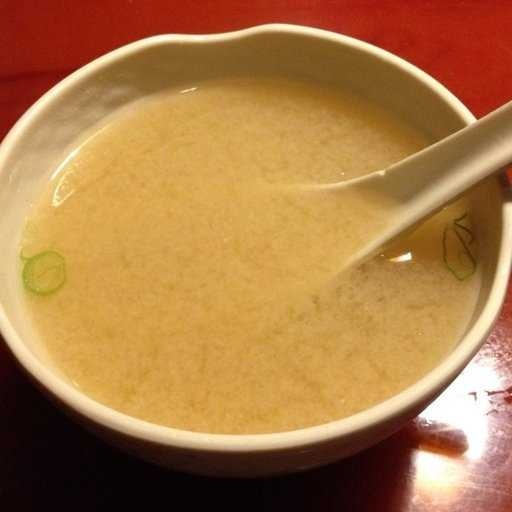soup: (28, 25, 468, 450)
